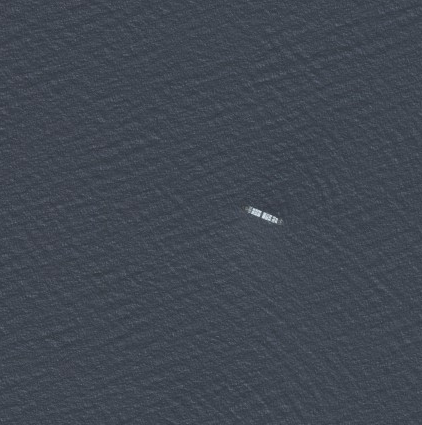ship: (238, 202, 288, 230)
